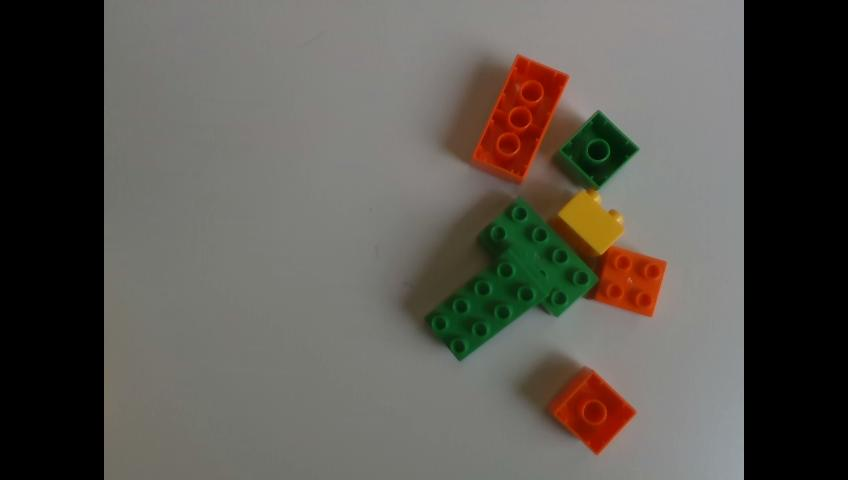2x2_green: (553, 110, 642, 190)
2x2_orange: (545, 366, 637, 455), (589, 246, 666, 316)
2x2_yellow: (548, 189, 627, 259)
4x2_green: (424, 245, 554, 364), (477, 195, 599, 318)
4x2_orange: (470, 52, 572, 186)
